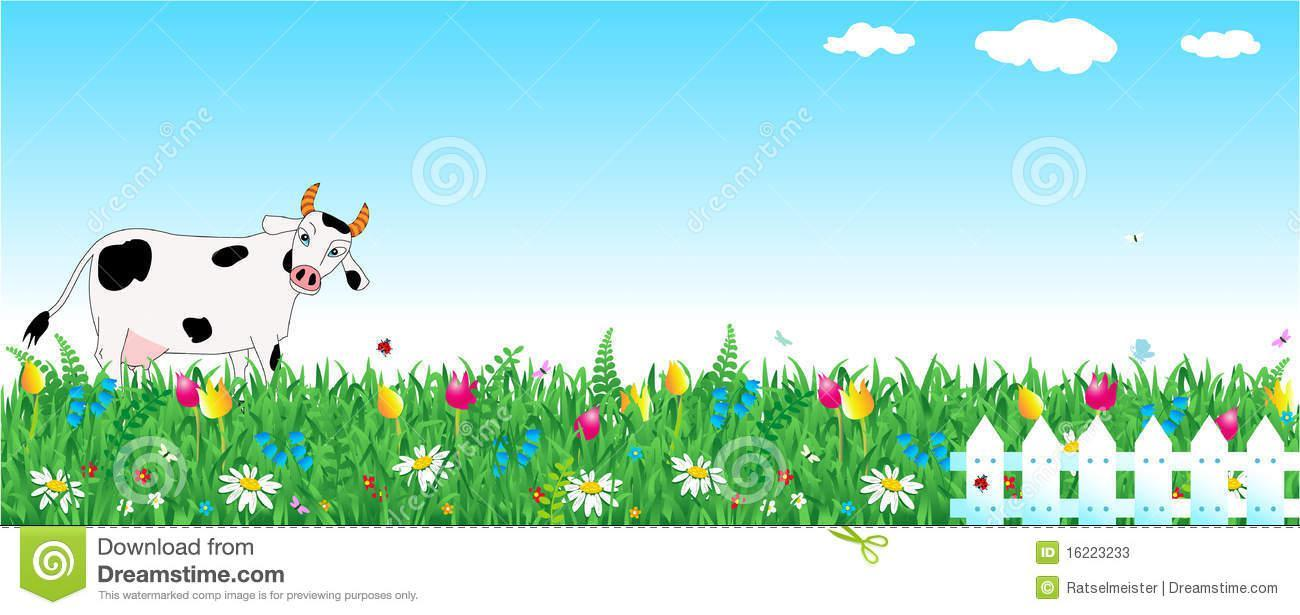cow: (21, 162, 382, 380)
